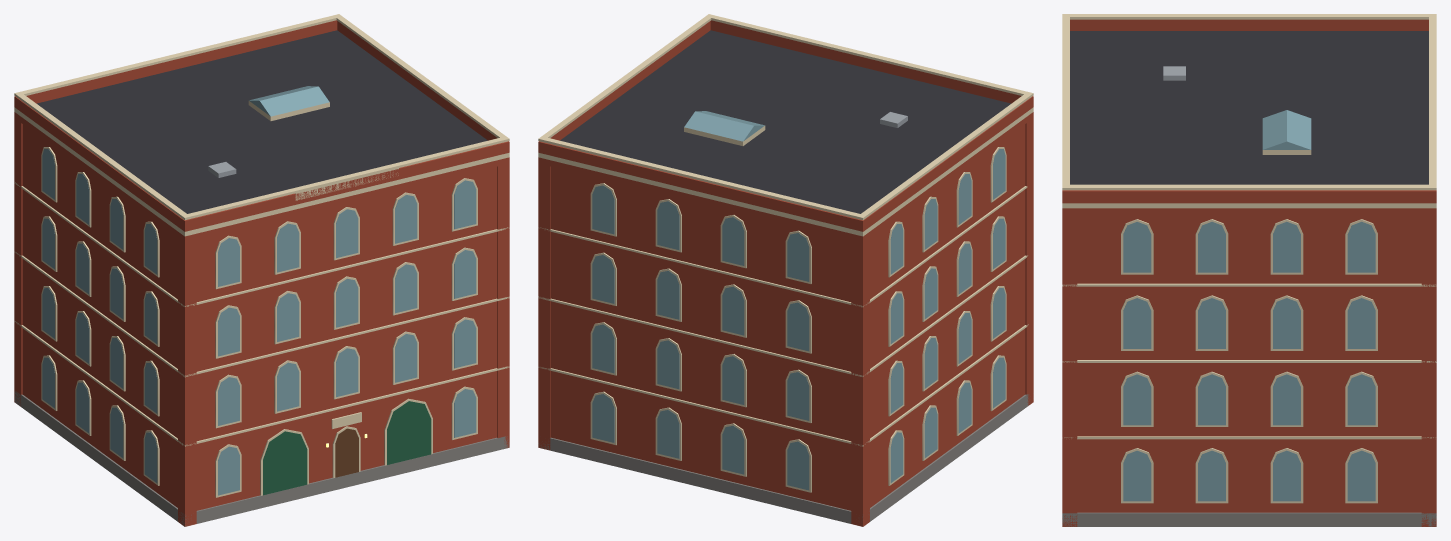
Rendered from building_brick.glb.
3 views of the same model, side by side, from view 1: azimuth 30°, elevation 25°; view 2: azimuth 150°, elevation 25°; view 3: azimuth 270°, elevation 25° (orthographic). The views are drawn at different scales.
Visible parts, largest first — view 1: body; view 2: body; view 3: body.
Part boxes in pixels (bbox=[...]): body: bbox=[14, 14, 509, 526]; body: bbox=[538, 14, 1033, 526]; body: bbox=[1062, 14, 1436, 526].
Size of the model in its own units: 2200 by 2000 by 2000.
